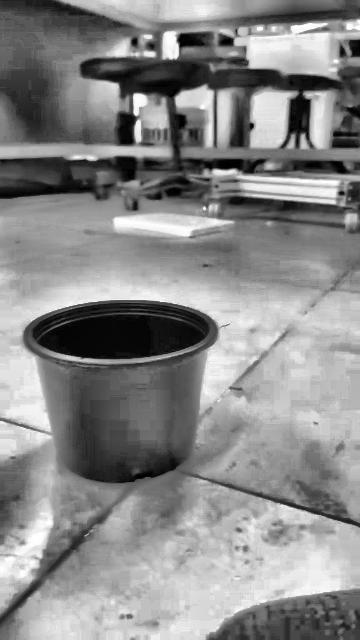pot: (24, 300, 217, 482)
